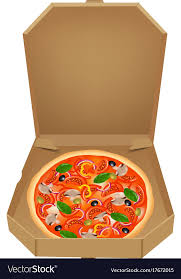pizza: (35, 156, 150, 239)
